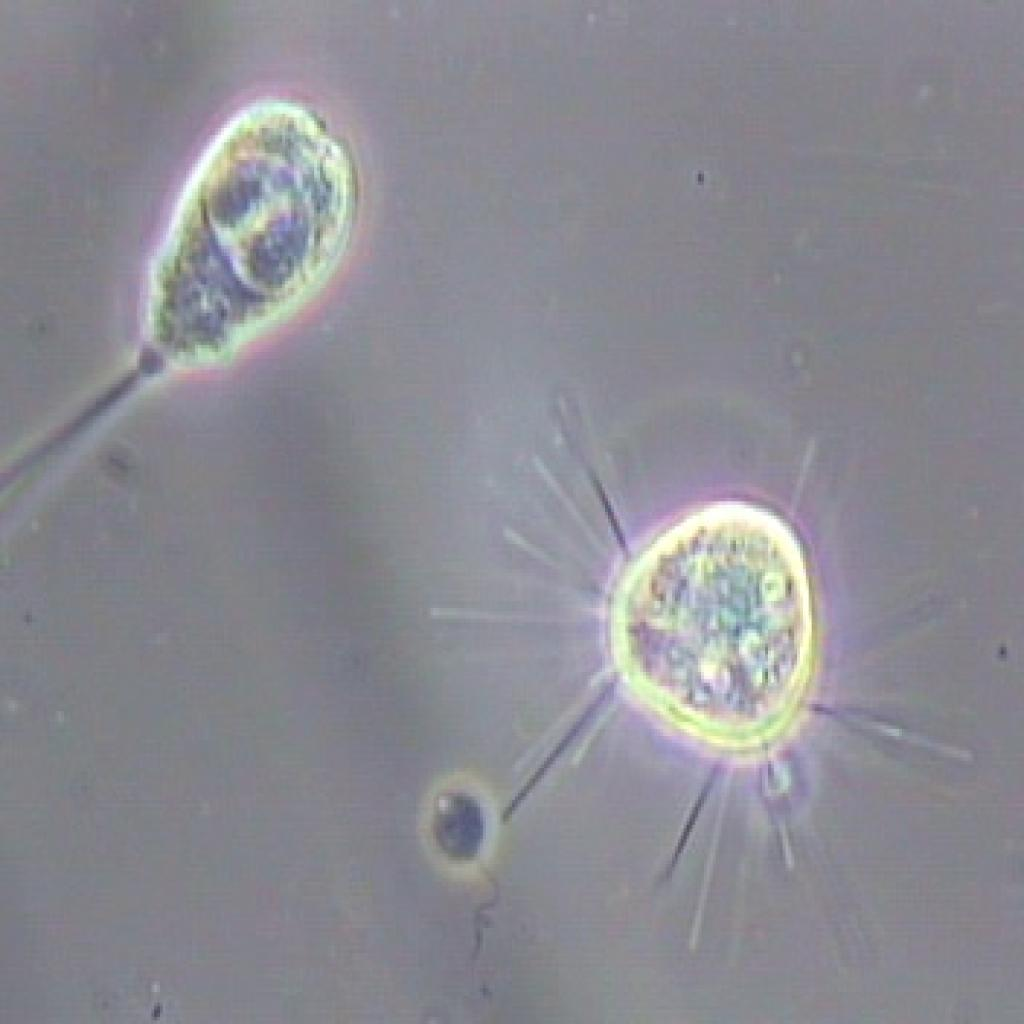Flagellates: (404, 768, 504, 992)
